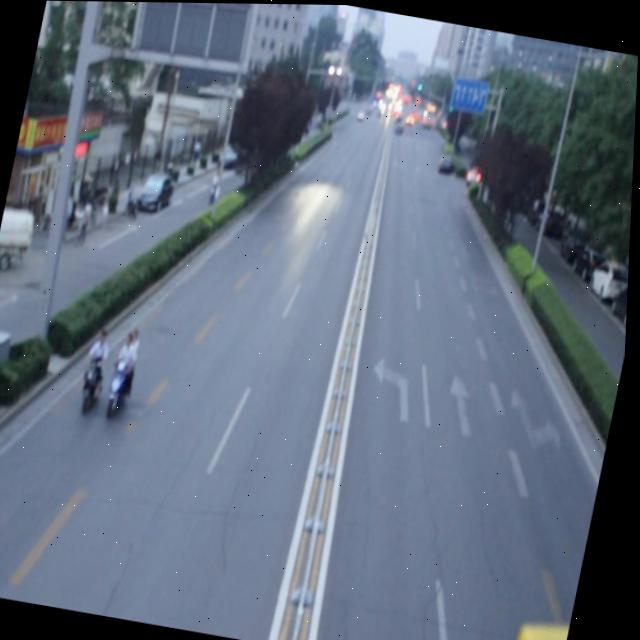van: (509, 611, 576, 640)
